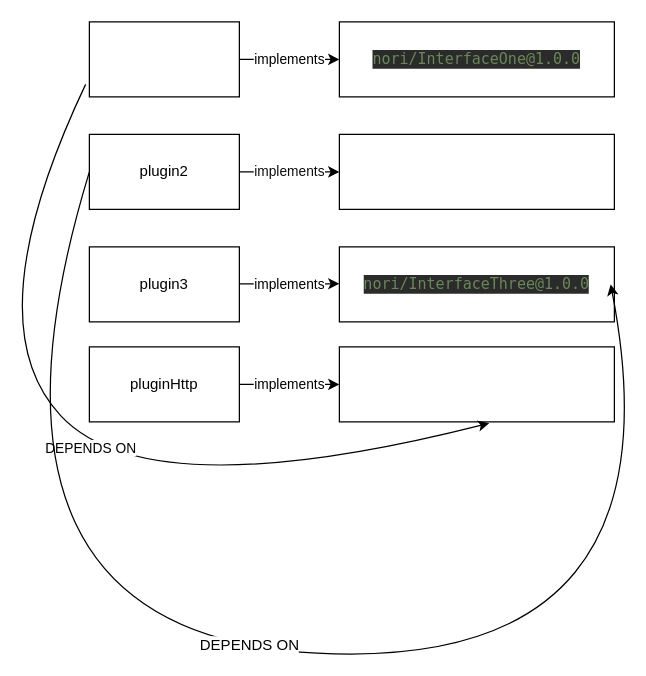
The diagram is 646 pixels wide and 676 high, and some of its shapes have lost their labels. The centre of each missing label's shape, as x and y in pixels:
"nori/InterfaceHttp@1.0.0" goes at (476,384).
"nori/InterfaceTwo@1.0.0" goes at (476,171).
"plugin1" goes at (163,59).
